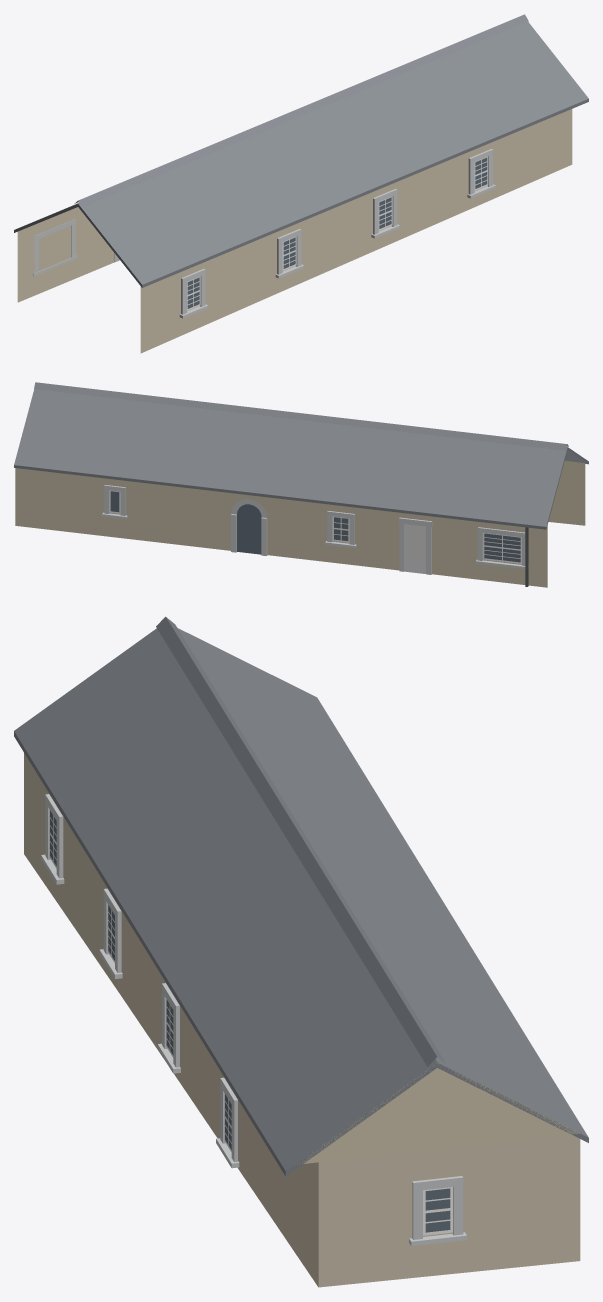
The picture shows the model from 3 angles, top to bottom: view 1: azimuth 30°, elevation 25°; view 2: azimuth 150°, elevation 25°; view 3: azimuth 270°, elevation 25°; orthographic projection. The views are drawn at different scales.
Parts seen in each view (by area): view 1: slate, ss_dk, stone_band, frame; view 2: slate, ss_dk, stone_band, door_cad, window_glass_004, window_glass_001, frame, window_glass_002; view 3: slate, ss_dk, stone_band, frame, window_glass_010.
Part boxes in pixels (x1,y1,x2,y2): slate: (14,14,588,287); ss_dk: (17,109,572,353); stone_band: (33,149,495,318); frame: (187,156,488,310); slate: (14,382,588,529); ss_dk: (15,460,585,587); stone_band: (102,485,528,574); door_cad: (405,524,425,573); window_glass_004: (237,514,261,554); window_glass_001: (484,533,520,562); frame: (109,490,521,563); window_glass_002: (334,517,348,540); slate: (14,616,588,1176); ss_dk: (24,753,580,1287); stone_band: (41,794,466,1246); frame: (49,810,452,1235); window_glass_010: (425,1188,450,1232).
Bounding box in the file's own units: 22.31 × 4.83 × 11.44.
